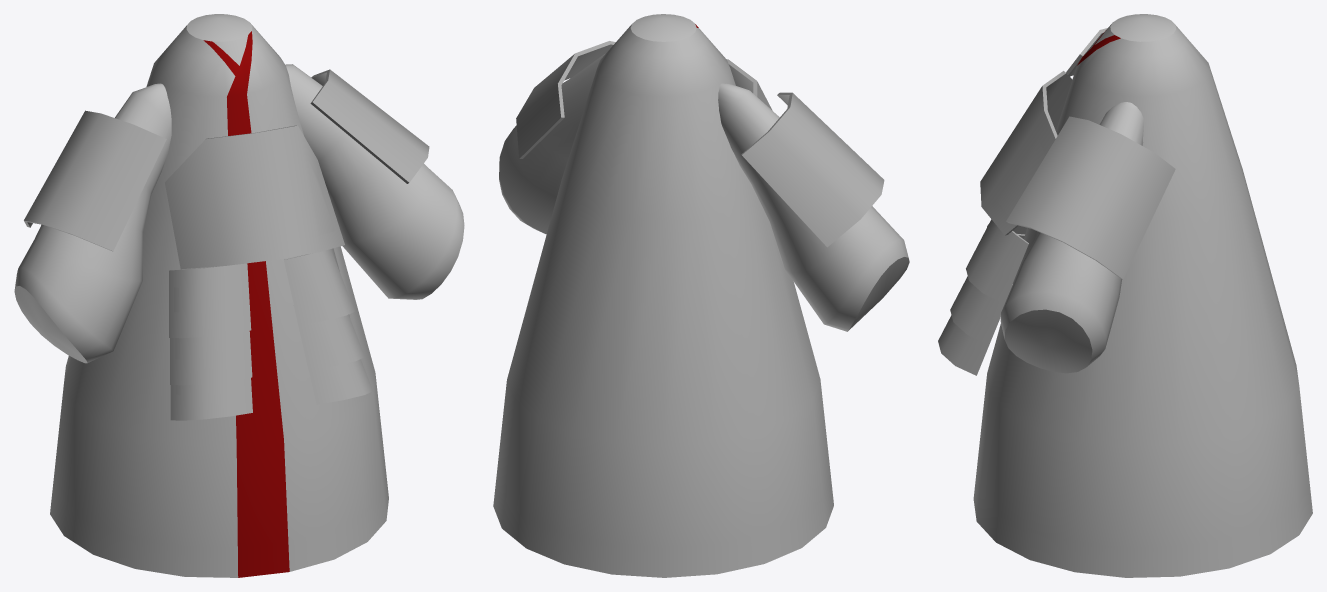
File: guards Coat.fbx
3 renders of one model, left to right at view 1: azimuth 30°, elevation 25°; view 2: azimuth 150°, elevation 25°; view 3: azimuth 270°, elevation 25°, orthographic.
Visible parts, largest first — view 1: body2, pCube1, left_arm1, left_arm2, pCube5, pCube8, pCube6, pCube7; view 2: body2, left_arm2, pCube8, left_arm1, pCube7, pCube1; view 3: body2, pCube7, left_arm1, pCube6, pCube1.
Boxes of the visible parts, bbox=[...] form: body2: bbox=[50, 14, 388, 577]; pCube1: bbox=[165, 125, 344, 269]; left_arm1: bbox=[285, 64, 464, 299]; left_arm2: bbox=[14, 83, 171, 363]; pCube5: bbox=[169, 263, 252, 420]; pCube8: bbox=[24, 110, 166, 251]; pCube6: bbox=[284, 248, 372, 404]; pCube7: bbox=[310, 69, 429, 183]; body2: bbox=[493, 14, 833, 577]; left_arm2: bbox=[718, 83, 909, 331]; pCube8: bbox=[741, 92, 884, 247]; left_arm1: bbox=[499, 53, 605, 234]; pCube7: bbox=[516, 41, 615, 158]; pCube1: bbox=[726, 59, 772, 110]; body2: bbox=[973, 14, 1312, 577]; pCube7: bbox=[1006, 116, 1175, 279]; left_arm1: bbox=[1000, 102, 1143, 373]; pCube6: bbox=[938, 219, 1028, 375]; pCube1: bbox=[980, 71, 1072, 235].
Bounding box in the file's own units: 8.27 × 9.54 × 6.57.
